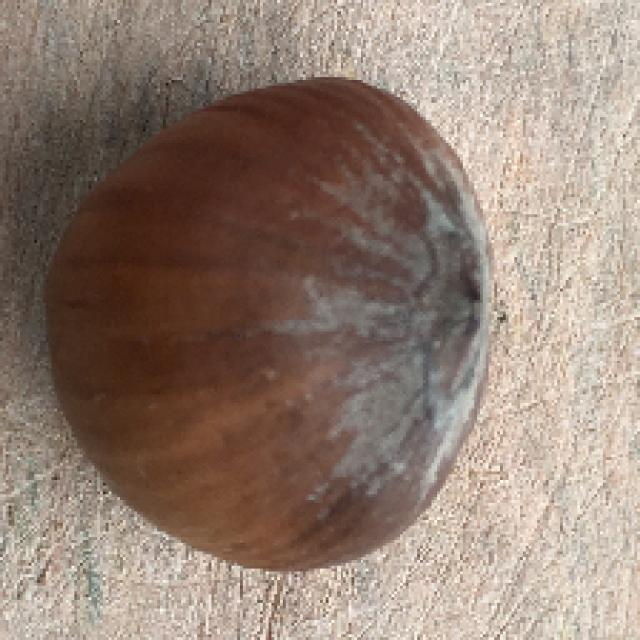damagedHazelnut: (44, 71, 503, 578)
